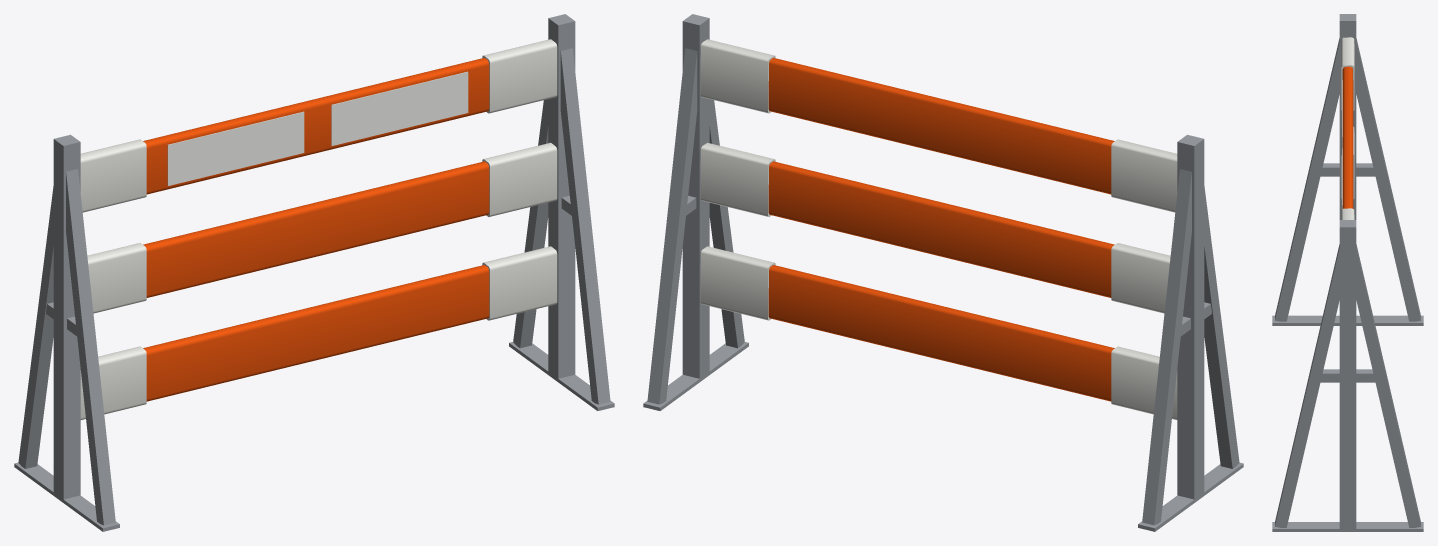
Rendered from barrier.glb.
3 views of the same model, side by side, from view 1: azimuth 30°, elevation 25°; view 2: azimuth 150°, elevation 25°; view 3: azimuth 270°, elevation 25° (orthographic). The views are drawn at different scales.
Visible parts, largest first — view 1: rail_assembly, support_frame; view 2: rail_assembly, support_frame; view 3: support_frame, rail_assembly.
Part boxes in pixels (box(x1,y1,x2,y2)): rail_assembly: box(80, 39, 557, 419); support_frame: box(14, 14, 614, 531); rail_assembly: box(700, 39, 1177, 419); support_frame: box(643, 14, 1243, 531); support_frame: box(1272, 14, 1423, 531); rail_assembly: box(1341, 37, 1354, 219).
Bounding box in the file's own units: 1.5 × 1 × 0.45.
